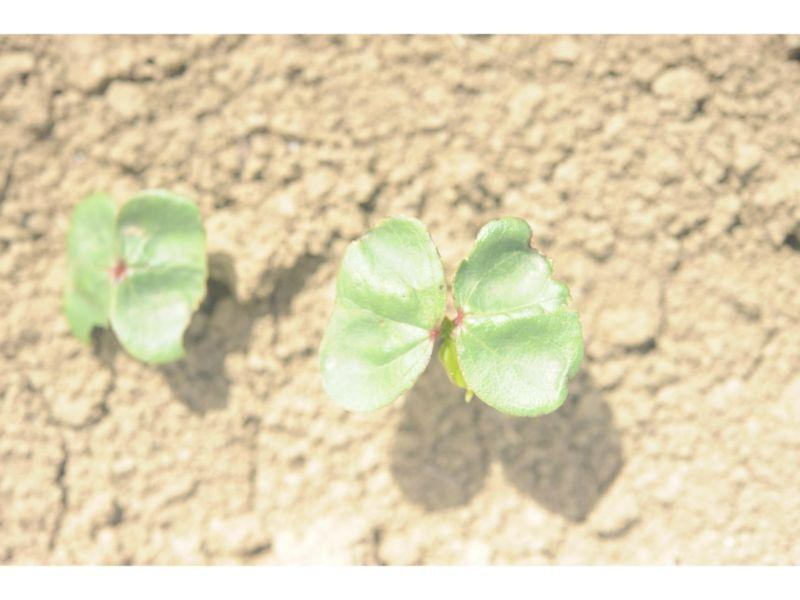cotton: (320, 212, 585, 411), (62, 189, 210, 366)
